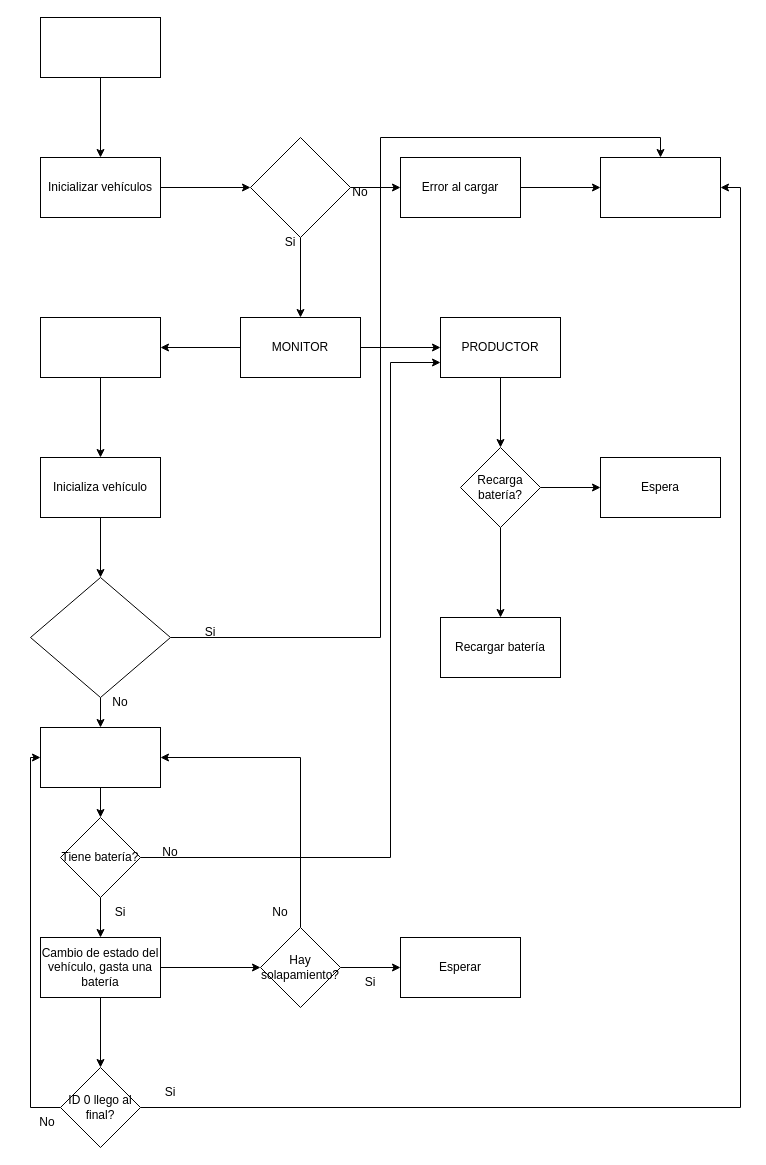
This 766x1165 diagram has some shape labels left out. The box of each missing label's shape, as (x1, y1, x2, y2) in pixels:
CONSUMIDOR: (40, 316, 160, 378)
Es vehiculo?: (250, 136, 350, 238)
FIN: (600, 156, 720, 218)
Hay solapamiento de inicio?: (30, 576, 170, 698)
Inicio: (40, 16, 160, 78)
Mover vehículo: (40, 726, 160, 788)
